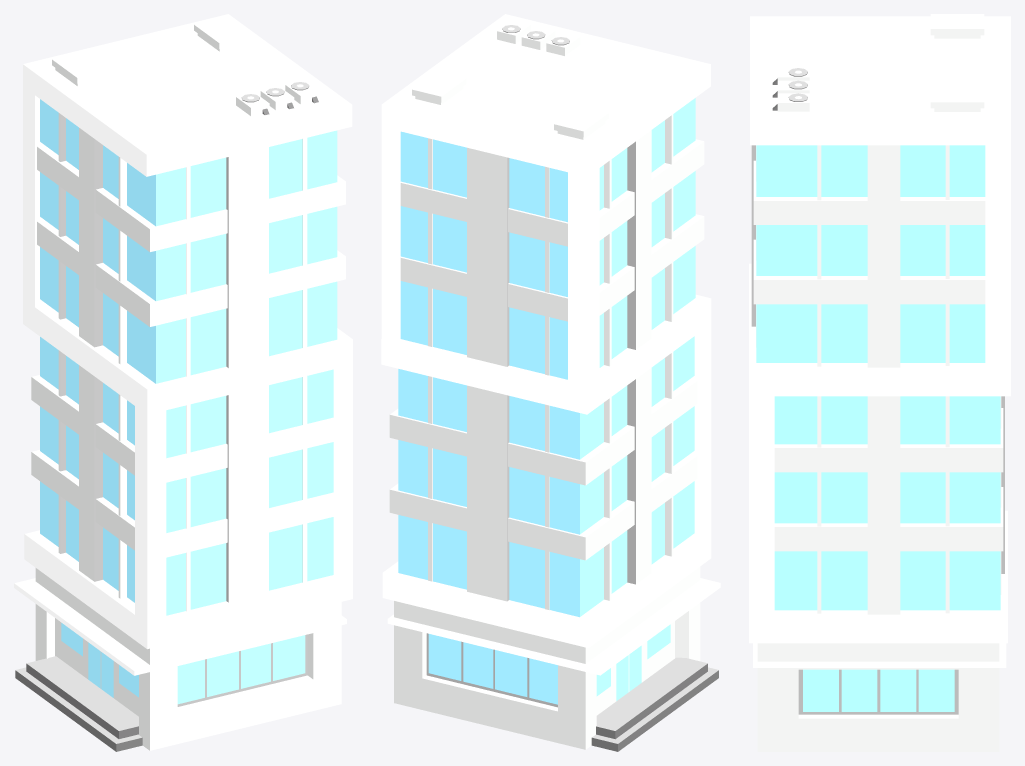
Rendered from tile_for_home_1x1.006 (4).glb.
The picture shows the model from 3 angles, left to right: view 1: azimuth 30°, elevation 25°; view 2: azimuth 150°, elevation 25°; view 3: azimuth 270°, elevation 25°; orthographic projection. The views are drawn at different scales.
Visible parts, largest first — view 1: apartment.004; view 2: apartment.004; view 3: apartment.004.
Boxes of the visible parts, x1,y1,x2,y2 form: apartment.004: (14,14,352,751); apartment.004: (381,14,720,751); apartment.004: (749,14,1010,751).
Bounding box in the file's own units: 7.54 × 19.57 × 7.21.
Materials: 1 (1 with a texture image).
